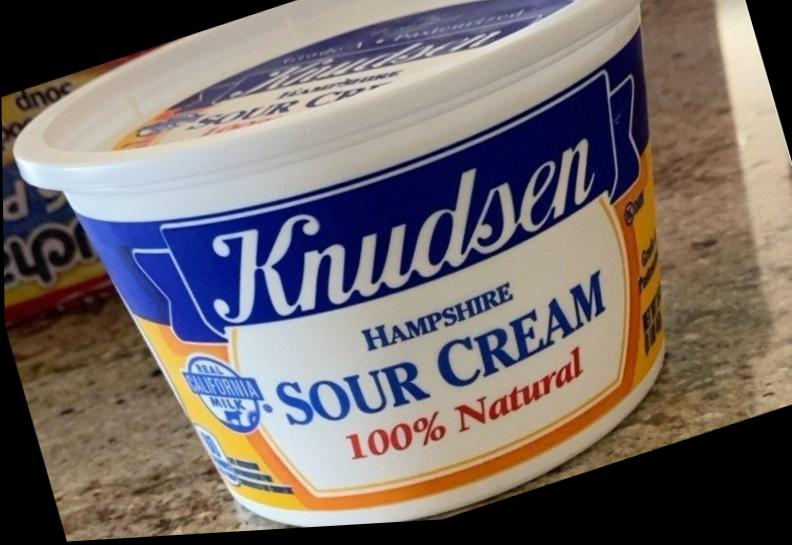plastic: (8, 0, 767, 538), (3, 119, 107, 325)
